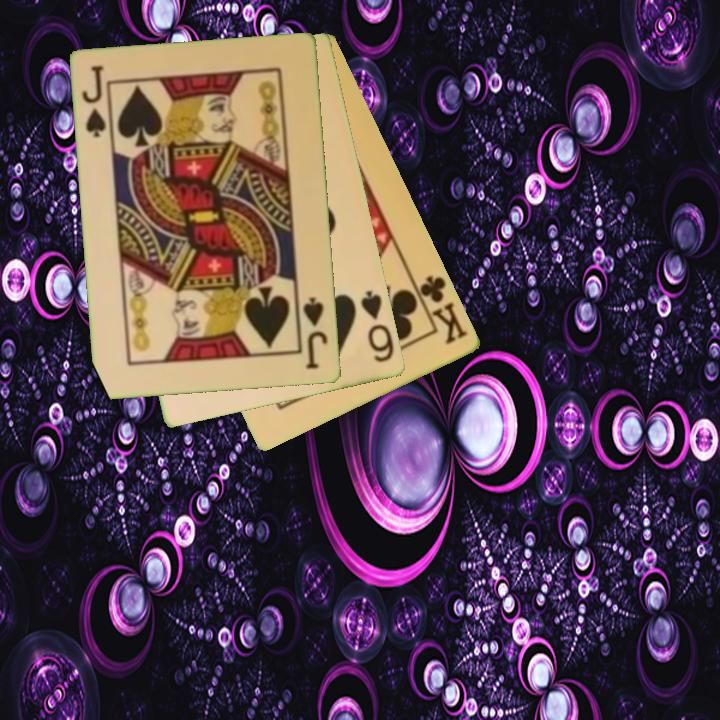6s: (357, 287, 397, 366)
Js: (79, 62, 114, 142), (300, 294, 331, 372)
Kc: (410, 272, 471, 348)
